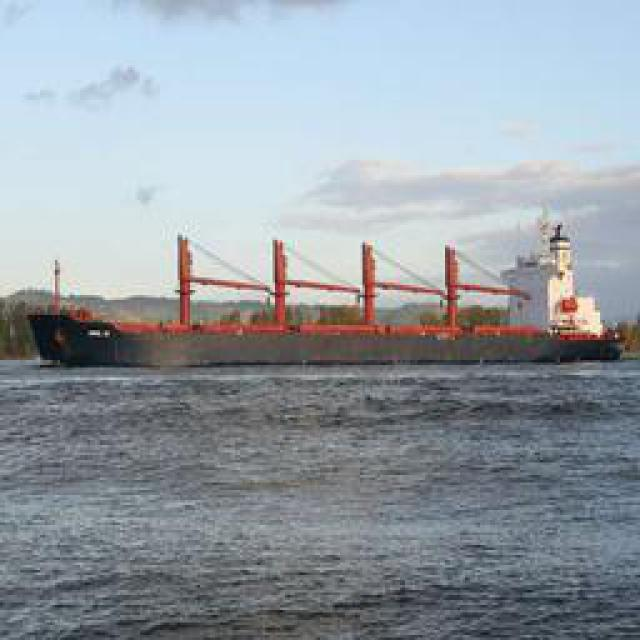Ship: (25, 220, 635, 375)
